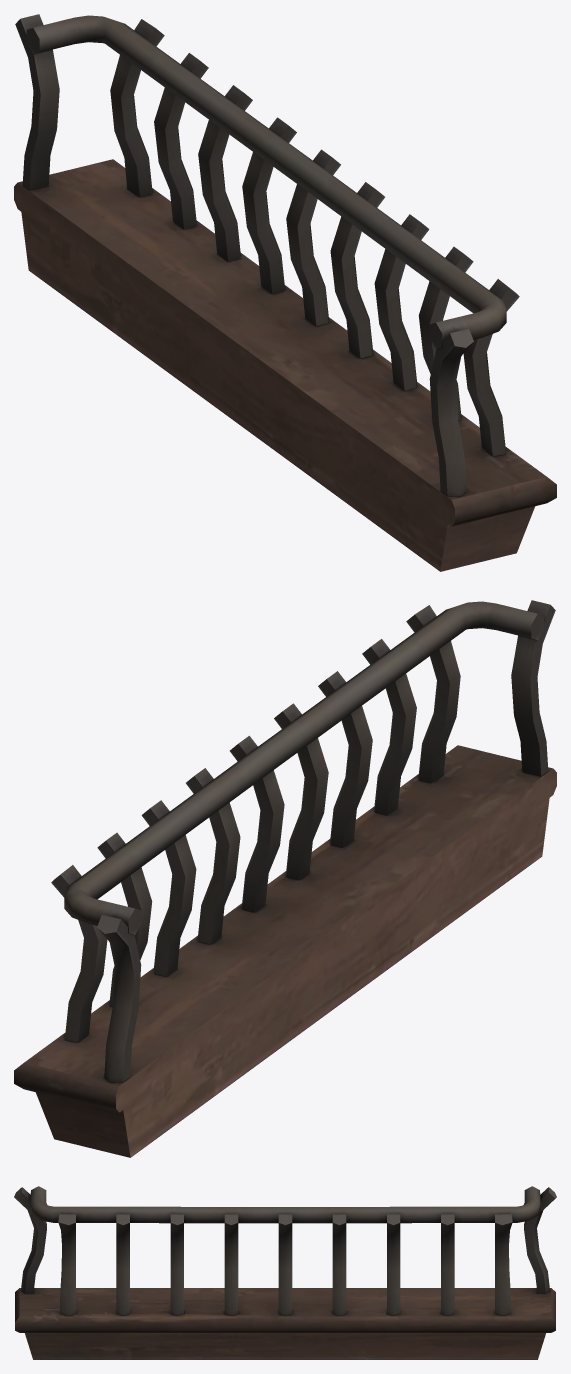
3 renders of one model, top to bottom at view 1: azimuth 30°, elevation 25°; view 2: azimuth 150°, elevation 25°; view 3: azimuth 270°, elevation 25°, orthographic. The views are drawn at different scales.
Parts seen in each view (by area): view 1: body0_model0_lod0_mesh0; view 2: body0_model0_lod0_mesh0; view 3: body0_model0_lod0_mesh0.
Part boxes in pixels (x1,y1,x2,y2): body0_model0_lod0_mesh0: (14,14,556,571); body0_model0_lod0_mesh0: (14,600,556,1157); body0_model0_lod0_mesh0: (14,1186,556,1359).
Bounding box in the file's own units: 16.33 × 36.93 × 120.
Materials: 1 (1 with a texture image).
